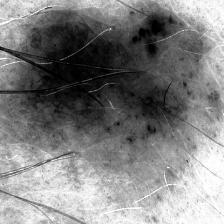Benign Marking or Mole: (19, 11, 214, 196)
